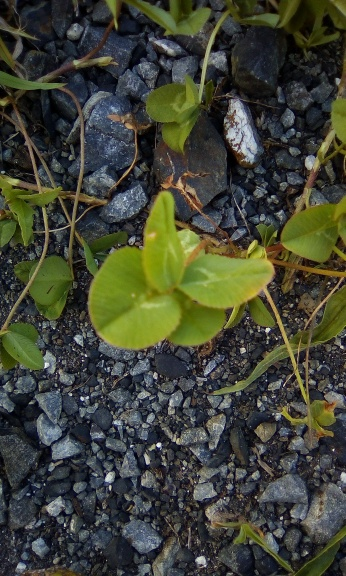4leaf: (87, 190, 277, 350)
